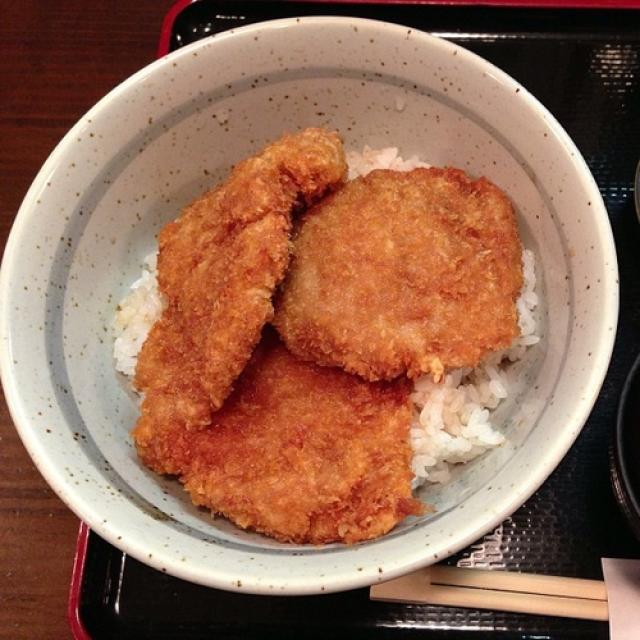牛肉菜式: (50, 37, 602, 589)
